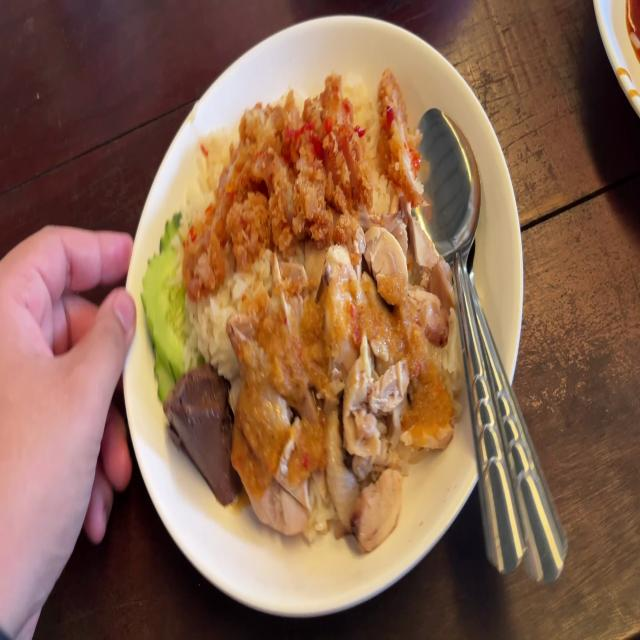boiled_chicken: (234, 270, 444, 508)
boiled_chicken_blood_jelly: (170, 371, 233, 500)
chicken_rice: (144, 78, 473, 541)
cucumber: (141, 213, 190, 399)
fried_chicken: (181, 98, 401, 227)
